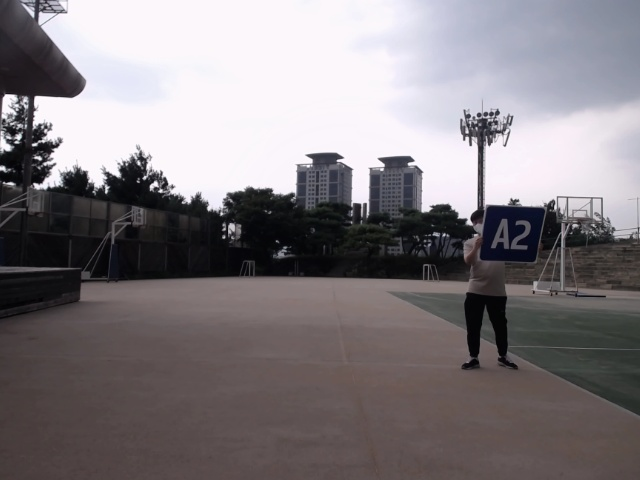delivery_a2: (478, 204, 547, 261)
